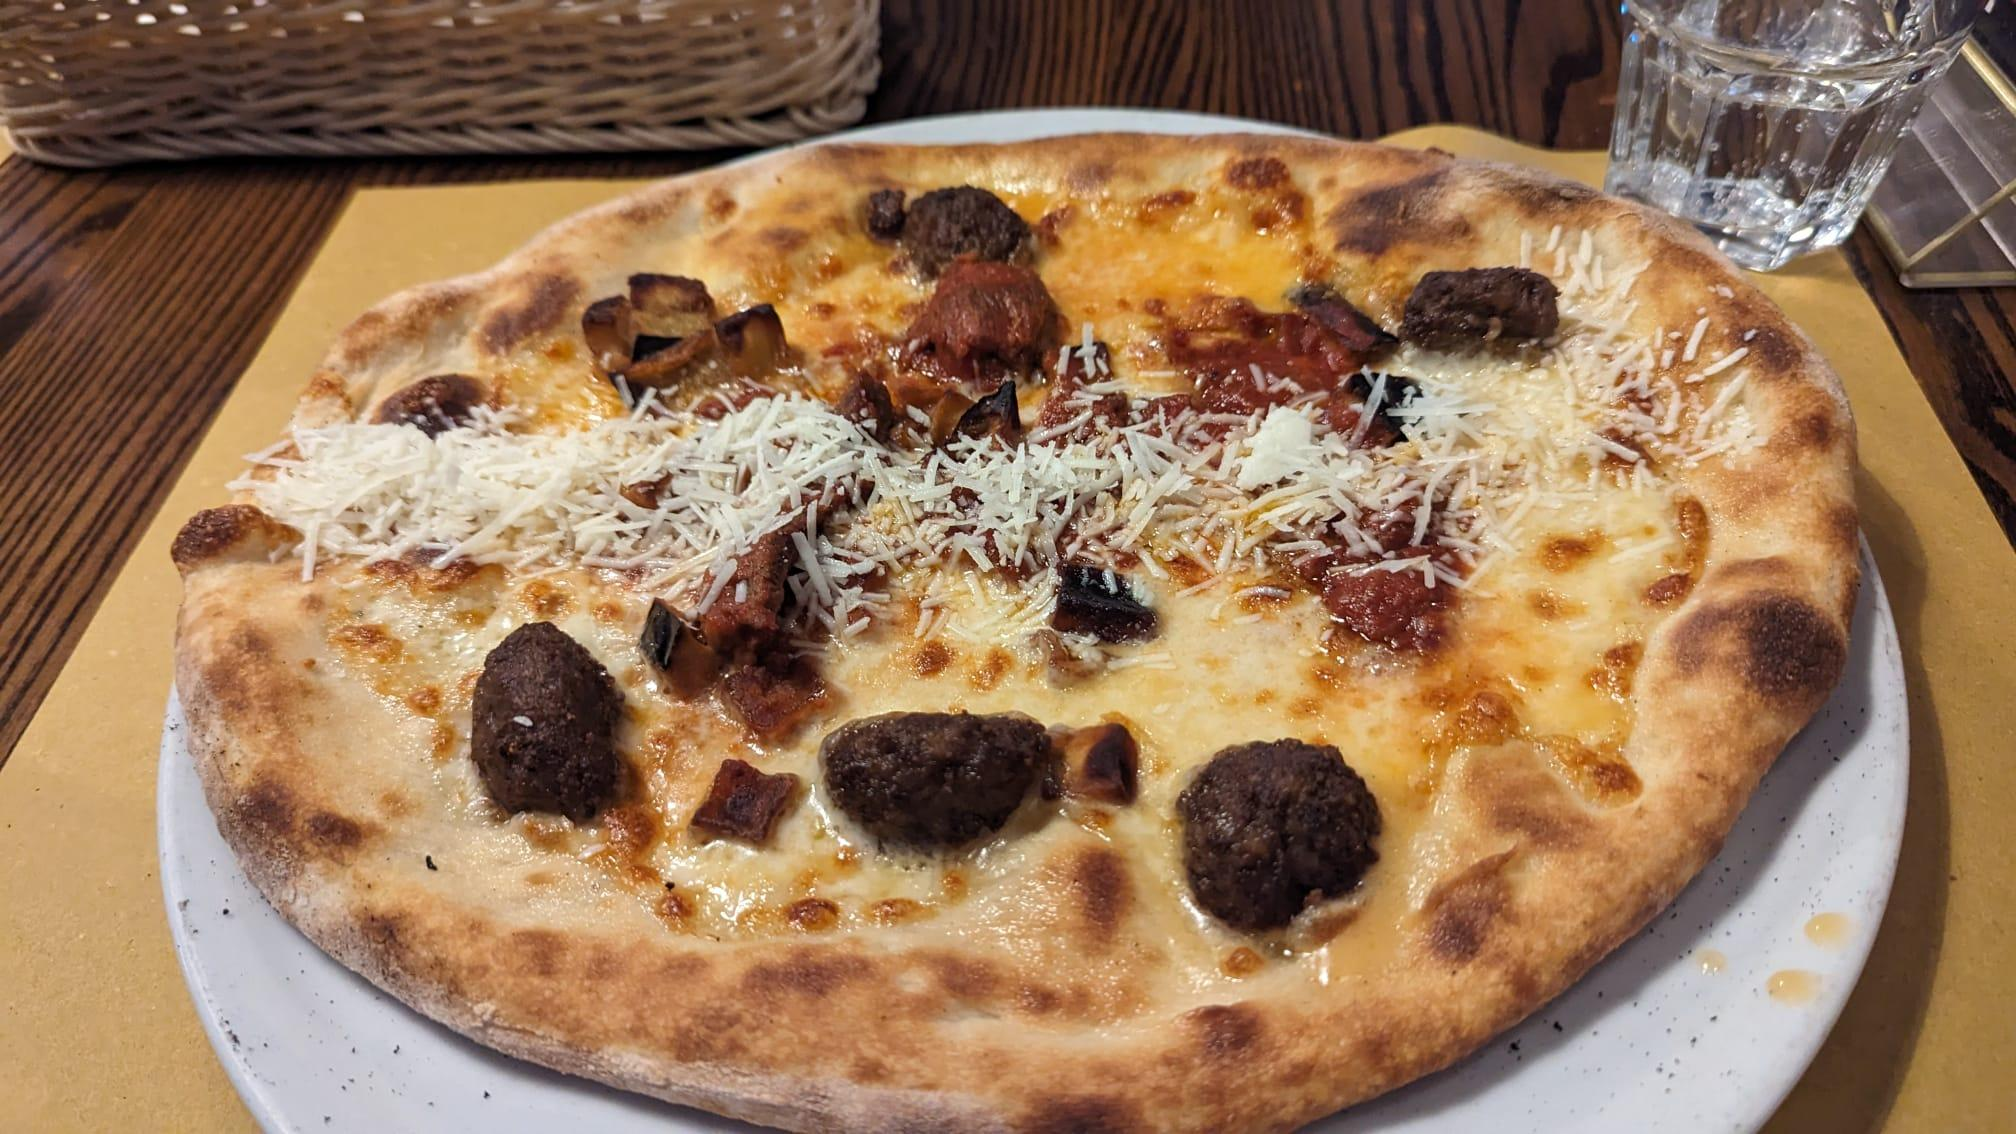Cheese: (288, 417, 777, 554), (900, 439, 1162, 543), (1450, 350, 1663, 471), (1232, 408, 1477, 512)
Pepperoni: (1252, 514, 1425, 624), (1192, 303, 1371, 397), (915, 260, 1065, 364), (691, 537, 800, 648)
Pizza: (173, 126, 1862, 1134)
